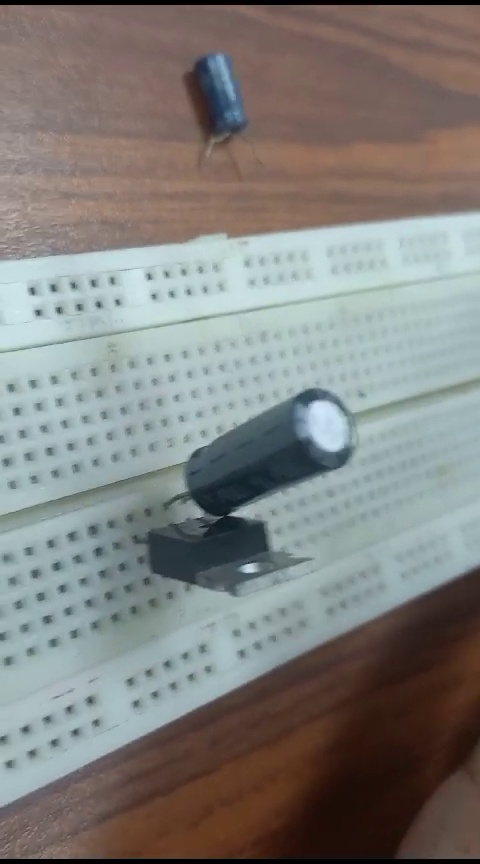capacitor: (164, 383, 360, 496), (174, 37, 267, 164)
voltage regulator: (122, 507, 323, 592)
